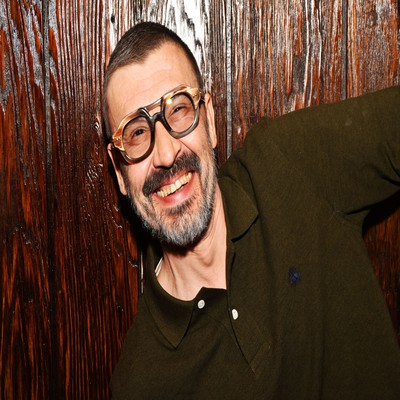eywear: (100, 83, 220, 168)
